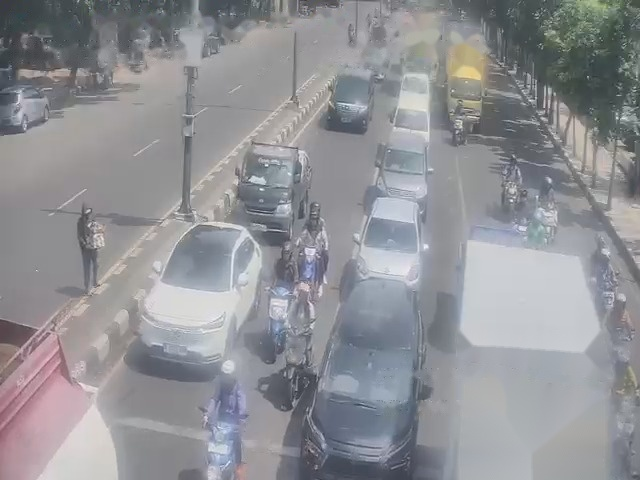Mobil: (311, 271, 419, 471), (150, 221, 251, 365), (233, 138, 302, 231), (355, 194, 419, 283), (375, 127, 430, 209), (326, 67, 372, 132)
Motor: (283, 298, 314, 410), (198, 406, 239, 478), (199, 407, 239, 479), (265, 283, 294, 363), (590, 248, 618, 321), (296, 246, 321, 319), (591, 272, 617, 319), (535, 202, 557, 244), (598, 281, 616, 317), (502, 181, 518, 221), (504, 182, 518, 211), (452, 116, 465, 146), (348, 31, 356, 46)
Truk: (446, 34, 487, 132)
